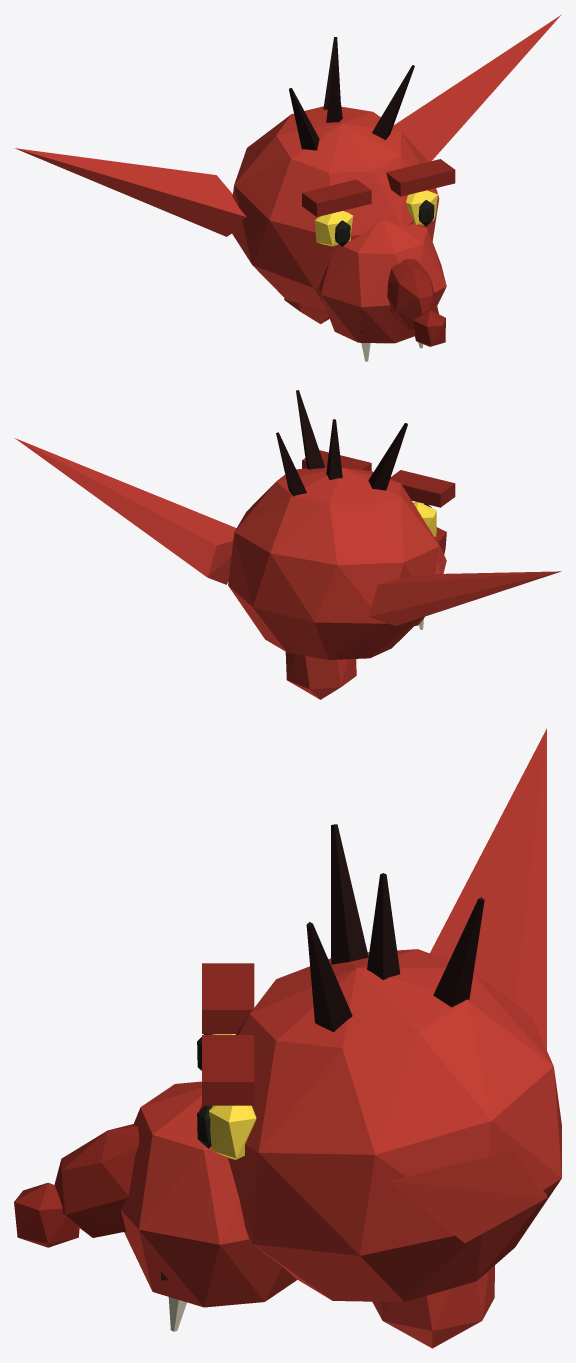
Rendered from goblin_3_head.glb.
The picture shows the model from 3 angles, top to bottom: view 1: azimuth 30°, elevation 25°; view 2: azimuth 150°, elevation 25°; view 3: azimuth 270°, elevation 25°; orthographic projection. The views are drawn at different scales.
Visible parts, largest first — view 1: goblin_3_head; view 2: goblin_3_head; view 3: goblin_3_head.
Part boxes in pixels (left/top/right/bottom): goblin_3_head: left=14, top=14, right=561, bottom=361; goblin_3_head: left=15, top=390, right=561, bottom=699; goblin_3_head: left=14, top=728, right=561, bottom=1348.
Bounding box in the file's own units: 0.68 × 0.3207 × 0.3352.
